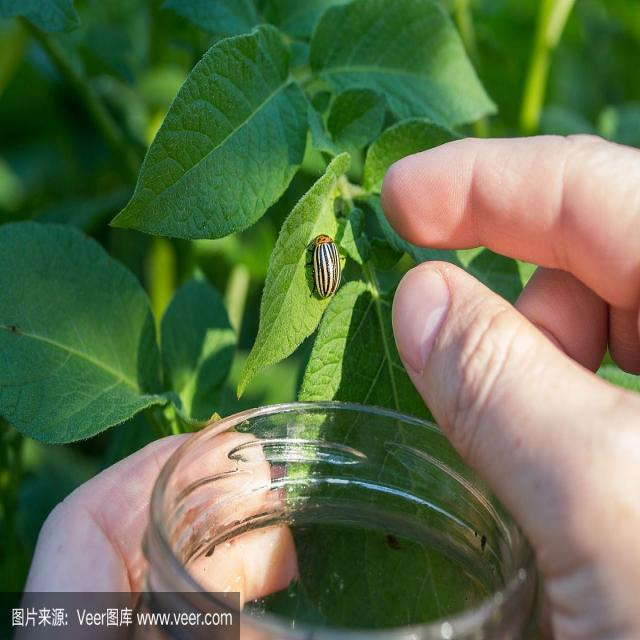ShuCaiHuaBanChong-Grown-: (310, 202, 350, 313)
